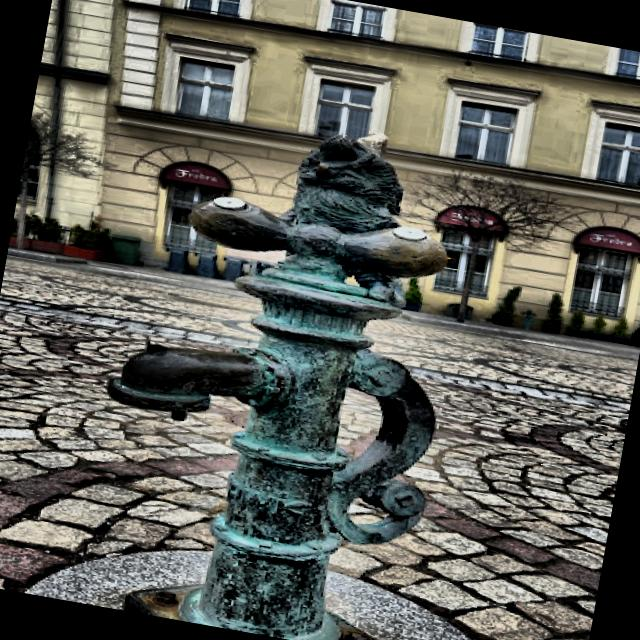Orzezwiacz: (106, 135, 448, 640)
